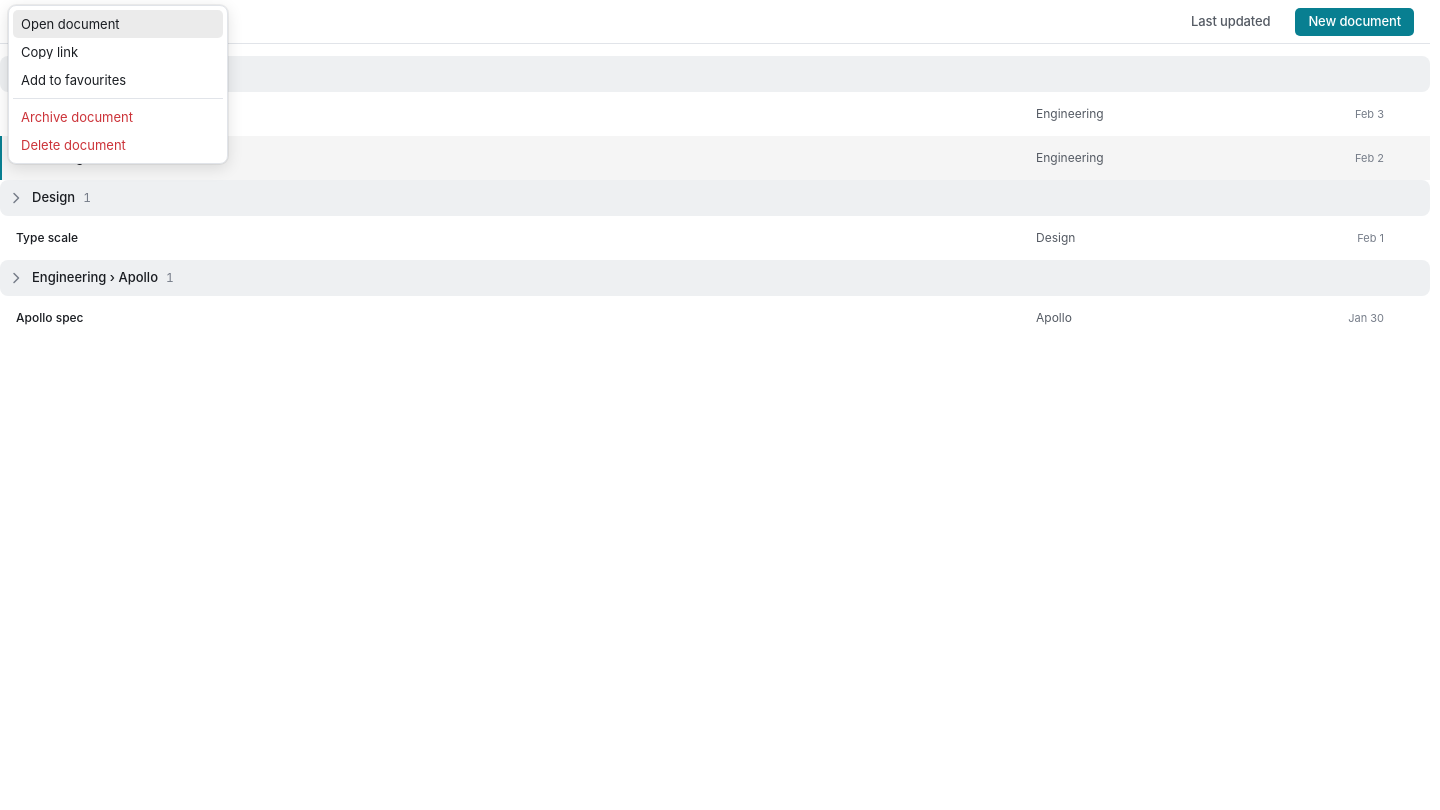
Test: Documents › asks before deleting from the row menu, and names what goes
What coordinates should you click on to do the following:
click the menu item "Delete document"
I would click on:
 (73, 144)
Its box is 21,136 -> 126,152.
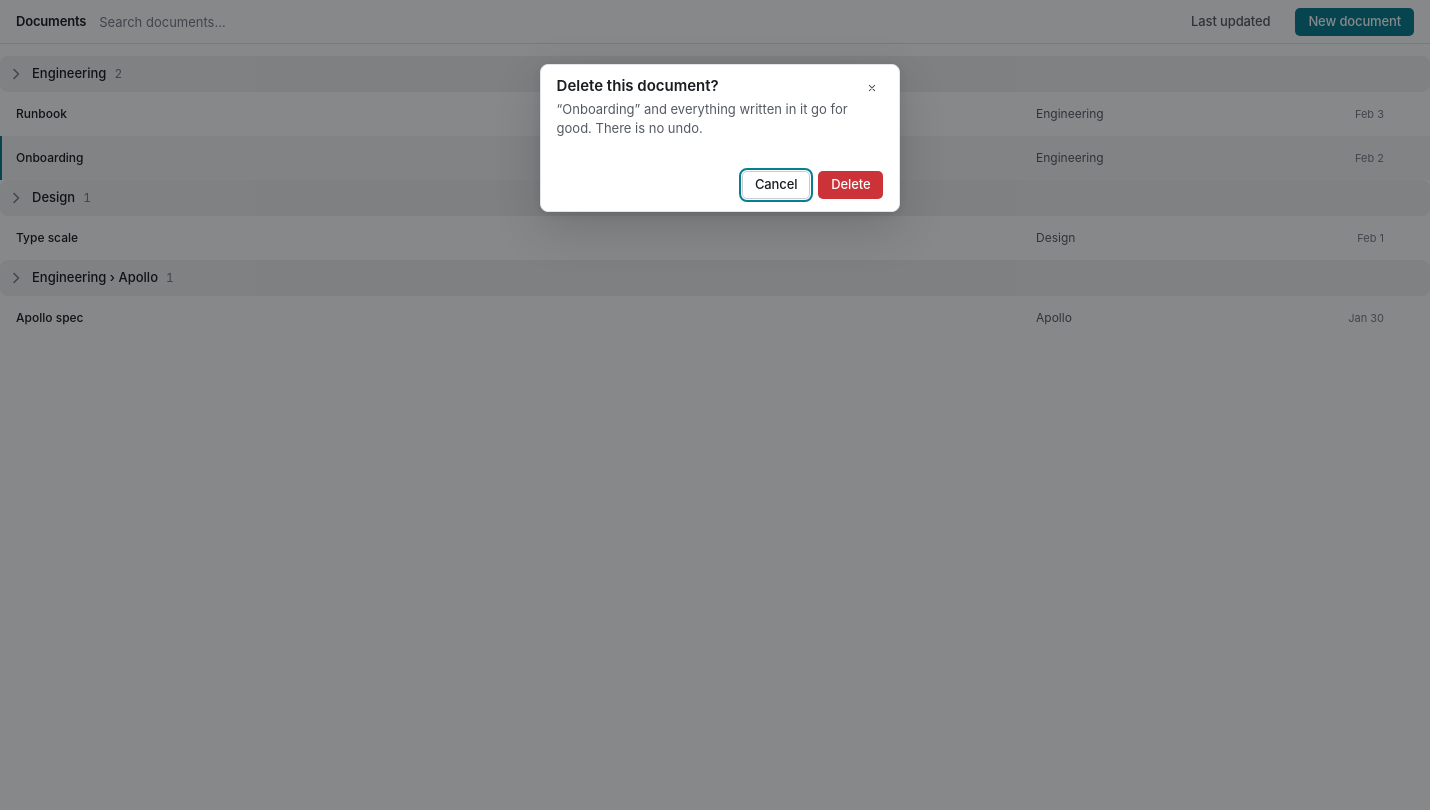
Expected: the text "Onboarding" is shown, 557,101 -> 848,136
